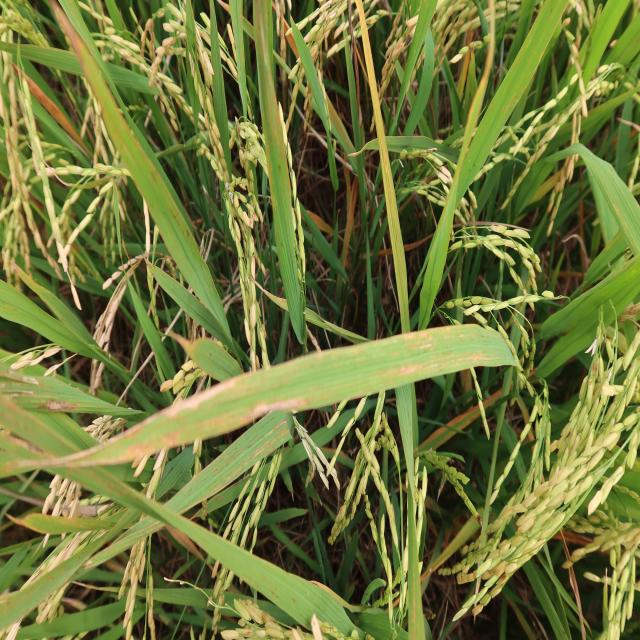Dom soc vi khuan: (223, 424, 289, 487), (211, 444, 254, 479), (449, 350, 504, 370), (379, 332, 434, 351), (400, 360, 445, 377)
